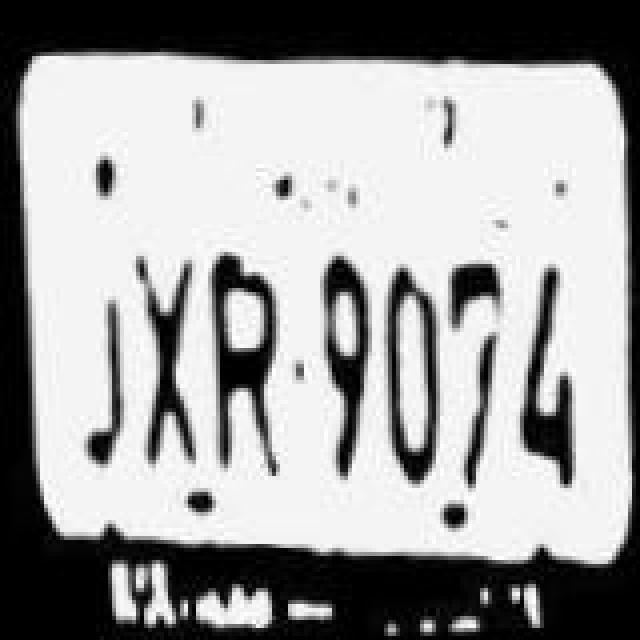4: (508, 254, 588, 502)
7: (440, 242, 512, 494)
9: (304, 244, 376, 500)
J: (60, 258, 140, 482)
O: (370, 258, 446, 498)
R: (198, 240, 290, 480)
X: (122, 246, 206, 474)
